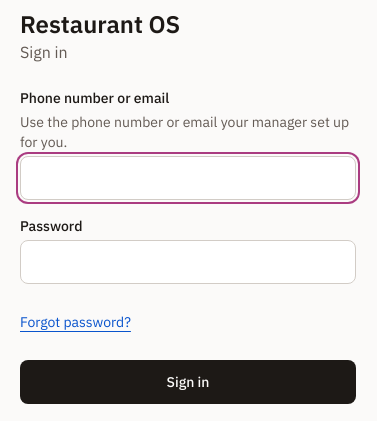
LoginScreen › ticks the hotel chosen last time on this device
This screenshot has width=377, height=421.
Type "9876543210" into the field labelled "Phone number or email" at point(188, 178), box [20, 156, 356, 200]
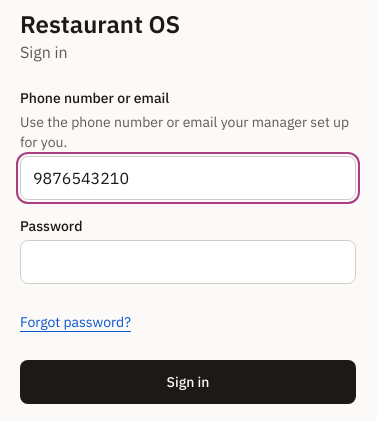
Type "Staging#2026" into the password field labelled "Password" at point(188, 262), box [20, 240, 356, 284]
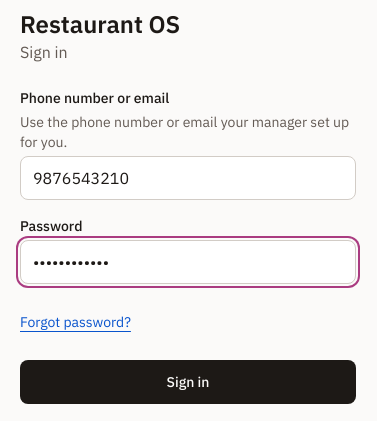
Click the button "Sign in" at point(188, 382), box [20, 360, 356, 404]
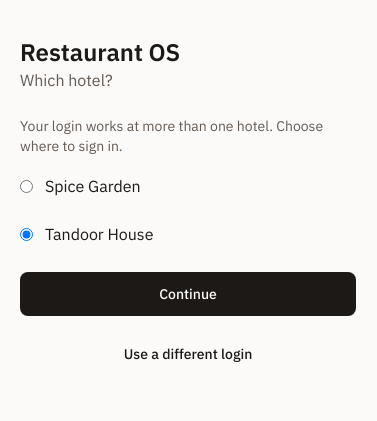
Check: the radio button labelled "Tandoor House" is checked, box [20, 228, 33, 240]
Check: the radio button labelled "Spice Garden" is not checked, box [20, 180, 33, 192]
